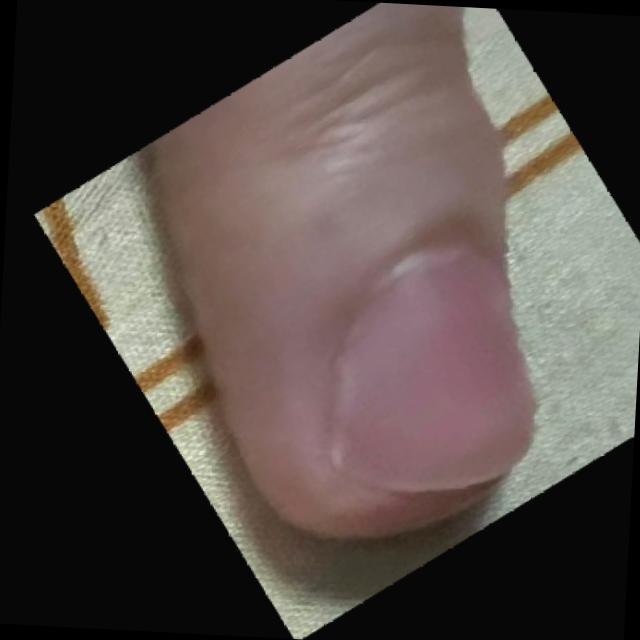Nail: (337, 252, 538, 491)
